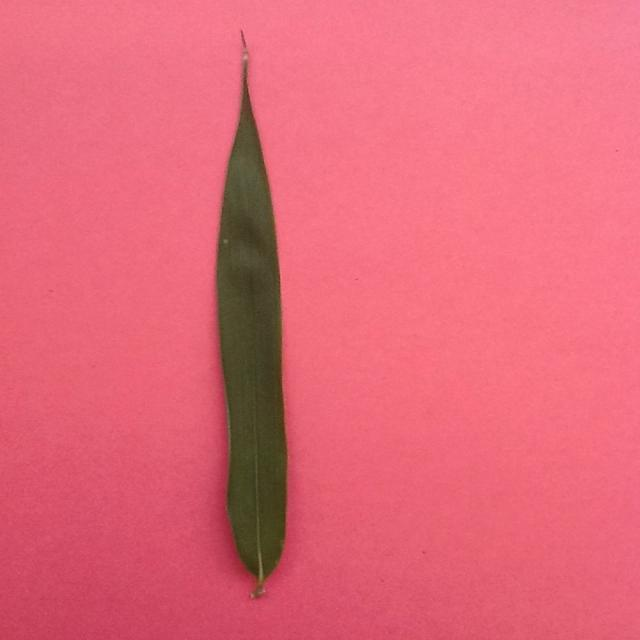foliage: (208, 26, 296, 596)
